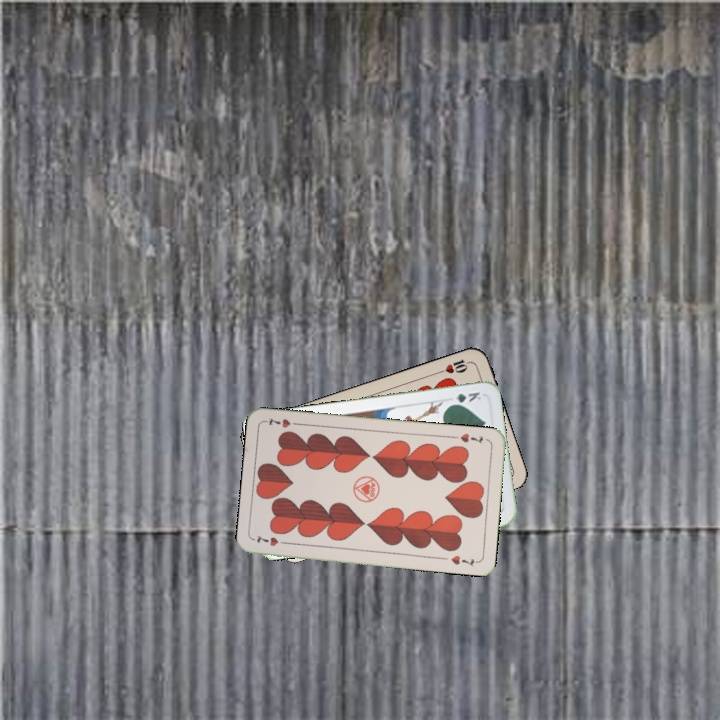GK: (445, 388, 484, 408)
H10: (433, 355, 473, 377)
H7: (251, 531, 291, 549), (456, 429, 485, 446)
